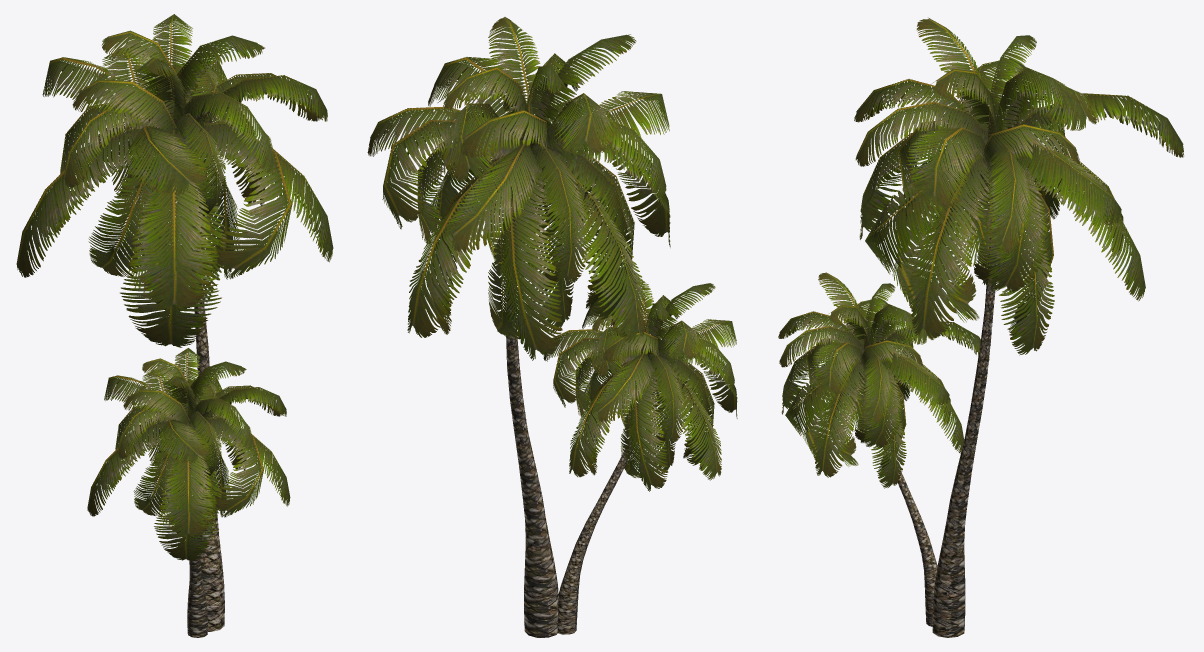
The model's file is tree_palm_tropical_04.dae.
3 renders of one model, left to right at view 1: azimuth 30°, elevation 25°; view 2: azimuth 150°, elevation 25°; view 3: azimuth 270°, elevation 25°, orthographic. The views are drawn at different scales.
Visible parts, largest first — view 1: palm_dual; view 2: palm_dual; view 3: palm_dual.
Boxes of the visible parts, left/top/right/bottom form: palm_dual: left=16, top=14, right=333, bottom=637; palm_dual: left=367, top=17, right=737, bottom=637; palm_dual: left=778, top=17, right=1183, bottom=637.
Bounding box in the file's own units: 13.29 × 25.64 × 16.67.
